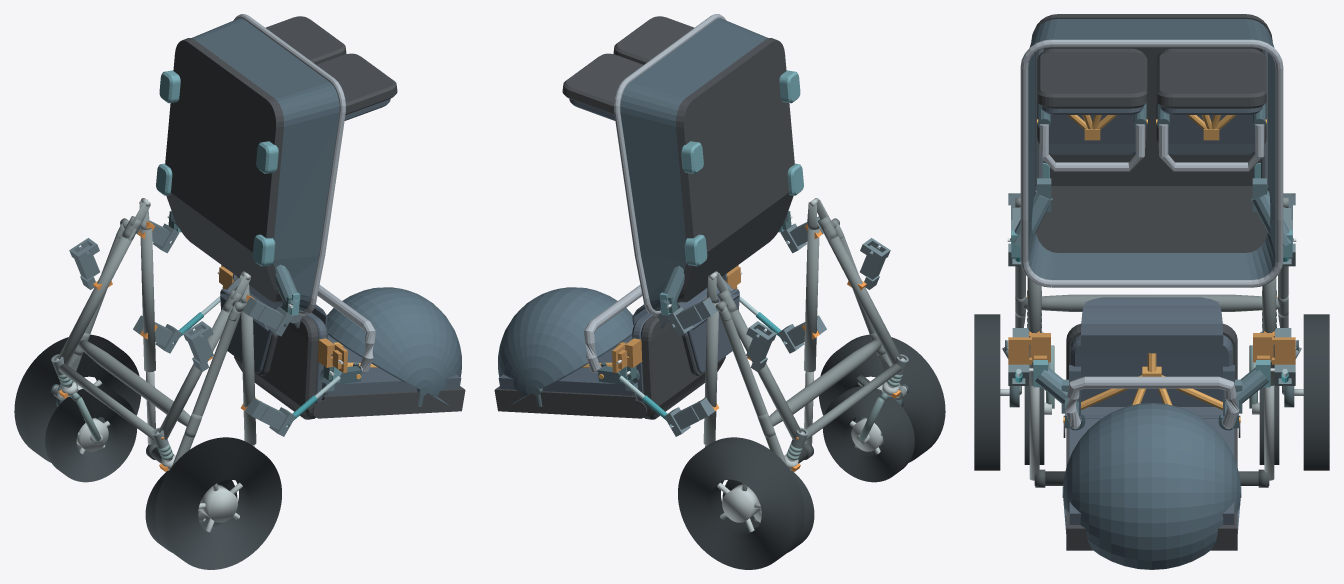
File: D30_w650_state3_wheel_L.glb
3 views of the same model, side by side, from view 1: azimuth 30°, elevation 25°; view 2: azimuth 150°, elevation 25°; view 3: azimuth 270°, elevation 25° (orthographic). The views are drawn at different scales.
Visible parts, largest first — view 1: D30_Lower, D30_Upper, RL_tire.008, FR_tire.008, RR_tire.008, V46_rearbar.009, main_upper_1.009, main_lower_1.009, V46_rear_leg_-1.009, main_upper_-1.009, main_lower_-1.009, front_fixed_round_tube.008 (+11 smaller); view 2: D30_Lower, D30_Upper, RR_tire.008, FL_tire.008, RL_tire.008, V46_rearbar.009, main_upper_-1.009, main_lower_-1.009, V46_rear_leg_1.009, main_upper_1.009, main_lower_1.009, front_fixed_round_tube.008 (+11 smaller); view 3: D30_Lower, D30_Upper, RL_tire.008, RR_tire.008, D30_Lower_Mount_M, V46_rearbar.009, D30_Upper_Mount_H, D02_WideAdapter_H_-1, D02_WideAdapter_H_1, handle_slider_1.008, handle_slider_-1.008, FL_tire.008 (+8 smaller).
Part boxes in pixels (bbox=[...]): D30_Lower: bbox=[156, 14, 397, 315]; D30_Upper: bbox=[220, 274, 465, 419]; RL_tire.008: bbox=[155, 437, 281, 569]; FR_tire.008: bbox=[45, 386, 137, 482]; RR_tire.008: bbox=[14, 334, 140, 462]; V46_rearbar.009: bbox=[78, 339, 190, 426]; main_upper_1.009: bbox=[140, 228, 155, 372]; main_lower_1.009: bbox=[58, 229, 135, 364]; V46_rear_leg_-1.009: bbox=[172, 311, 240, 466]; main_upper_-1.009: bbox=[240, 301, 256, 445]; main_lower_-1.009: bbox=[158, 307, 232, 440]; front_fixed_round_tube.008: bbox=[58, 363, 154, 440]; D30_Lower: bbox=[562, 14, 803, 315]; D30_Upper: bbox=[494, 274, 739, 419]; RR_tire.008: bbox=[678, 437, 804, 569]; FL_tire.008: bbox=[822, 386, 914, 482]; RL_tire.008: bbox=[819, 334, 945, 462]; V46_rearbar.009: bbox=[769, 339, 881, 426]; main_upper_-1.009: bbox=[804, 227, 819, 372]; main_lower_-1.009: bbox=[824, 229, 901, 364]; V46_rear_leg_1.009: bbox=[719, 311, 787, 466]; main_upper_1.009: bbox=[703, 300, 719, 445]; main_lower_1.009: bbox=[727, 307, 801, 440]; front_fixed_round_tube.008: bbox=[805, 363, 901, 440]; D30_Lower: bbox=[1020, 14, 1283, 287]; D30_Upper: bbox=[1062, 297, 1241, 569]; RL_tire.008: bbox=[974, 314, 1000, 470]; RR_tire.008: bbox=[1303, 314, 1329, 470]; D30_Lower_Mount_M: bbox=[1007, 178, 1296, 257]; V46_rearbar.009: bbox=[1023, 294, 1280, 311]; D30_Upper_Mount_H: bbox=[1029, 360, 1274, 413]; D02_WideAdapter_H_-1: bbox=[1007, 333, 1050, 364]; D02_WideAdapter_H_1: bbox=[1253, 333, 1296, 364]; handle_slider_1.008: bbox=[1264, 385, 1274, 480]; handle_slider_-1.008: bbox=[1029, 385, 1039, 480]; FL_tire.008: bbox=[1024, 385, 1044, 464].
Bounding box in the file's own units: 1.12 × 1.28 × 0.8171.
